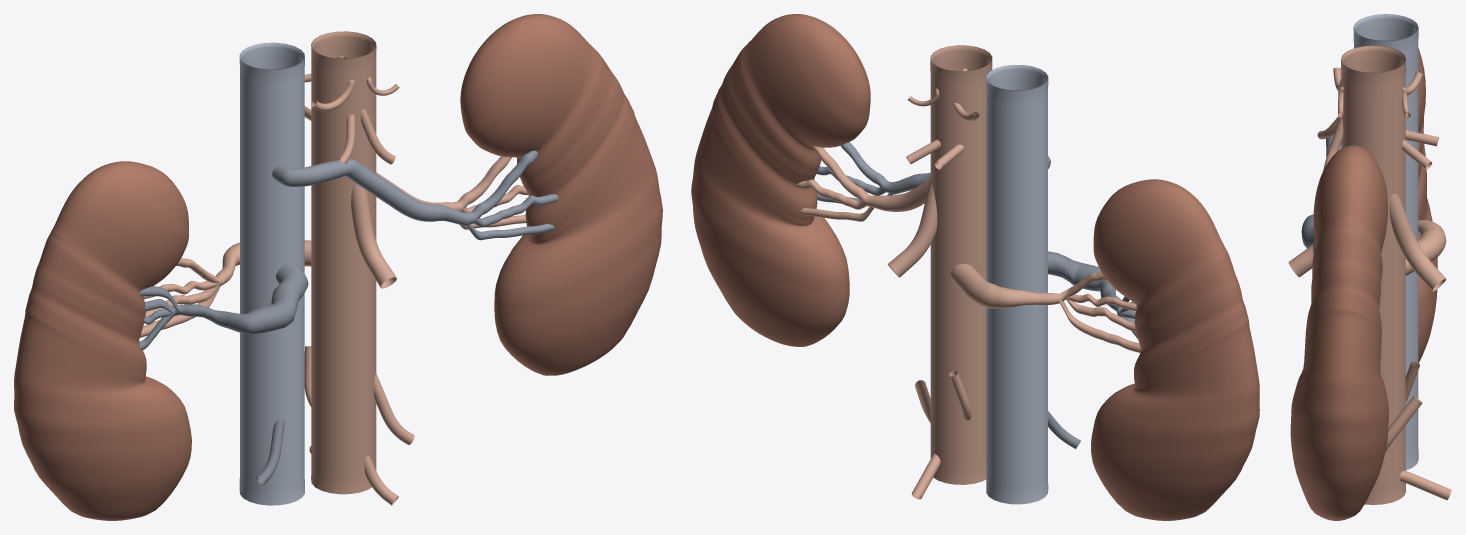
File: Human Kidney Model.fbx
3 views of the same model, side by side, from view 1: azimuth 30°, elevation 25°; view 2: azimuth 150°, elevation 25°; view 3: azimuth 270°, elevation 25° (orthographic). The views are drawn at different scales.
Parts seen in each view (by area): view 1: pSphere3, pSphere2, pCylinder1, pCylinder2, pCylinder21, pasted__pCylinder12, pCylinder12, pCylinder5, pCylinder11, pCylinder7, pCylinder8; view 2: pSphere2, pSphere3, pCylinder1, pCylinder2, pCylinder12, pCylinder11, pCylinder21, pasted__pCylinder12, pCylinder17; view 3: pSphere3, pCylinder2, pCylinder1, pSphere2, pCylinder17, pCylinder12, pCylinder19, pCylinder18, pCylinder5, pCylinder6, pCylinder15, pCylinder16 (+3 smaller).
Part boxes in pixels (x1=…): pSphere3: x1=460, y1=14, x2=662, y2=375; pSphere2: x1=14, y1=161, x2=191, y2=520; pCylinder1: x1=239, y1=42, x2=304, y2=505; pCylinder2: x1=311, y1=31, x2=376, y2=494; pCylinder21: x1=272, y1=150, x2=558, y2=240; pasted__pCylinder12: x1=139, y1=261, x2=308, y2=350; pCylinder12: x1=140, y1=240, x2=311, y2=337; pCylinder5: x1=351, y1=182, x2=396, y2=288; pCylinder11: x1=376, y1=156, x2=528, y2=229; pCylinder7: x1=374, y1=373, x2=414, y2=444; pCylinder8: x1=256, y1=418, x2=284, y2=485; pSphere2: x1=1091, y1=179, x2=1259, y2=520; pSphere3: x1=691, y1=14, x2=870, y2=346; pCylinder1: x1=986, y1=65, x2=1048, y2=504; pCylinder2: x1=930, y1=45, x2=992, y2=484; pCylinder12: x1=950, y1=264, x2=1140, y2=352; pCylinder11: x1=796, y1=146, x2=930, y2=221; pCylinder21: x1=816, y1=142, x2=1050, y2=206; pasted__pCylinder12: x1=1048, y1=251, x2=1137, y2=338; pCylinder17: x1=887, y1=178, x2=937, y2=277; pSphere3: x1=1290, y1=145, x2=1388, y2=520; pCylinder2: x1=1341, y1=45, x2=1406, y2=504; pCylinder1: x1=1353, y1=14, x2=1418, y2=470; pSphere2: x1=1418, y1=48, x2=1437, y2=362; pCylinder17: x1=1389, y1=193, x2=1446, y2=291; pCylinder12: x1=1405, y1=220, x2=1446, y2=275; pCylinder19: x1=1399, y1=470, x2=1451, y2=500; pCylinder18: x1=1385, y1=396, x2=1422, y2=451; pCylinder5: x1=1288, y1=243, x2=1313, y2=277; pCylinder6: x1=1323, y1=118, x2=1343, y2=170; pCylinder15: x1=1401, y1=140, x2=1432, y2=169; pCylinder16: x1=1405, y1=130, x2=1438, y2=146.
Bounding box in the file's own units: 3.62 × 2.51 × 0.8355.
